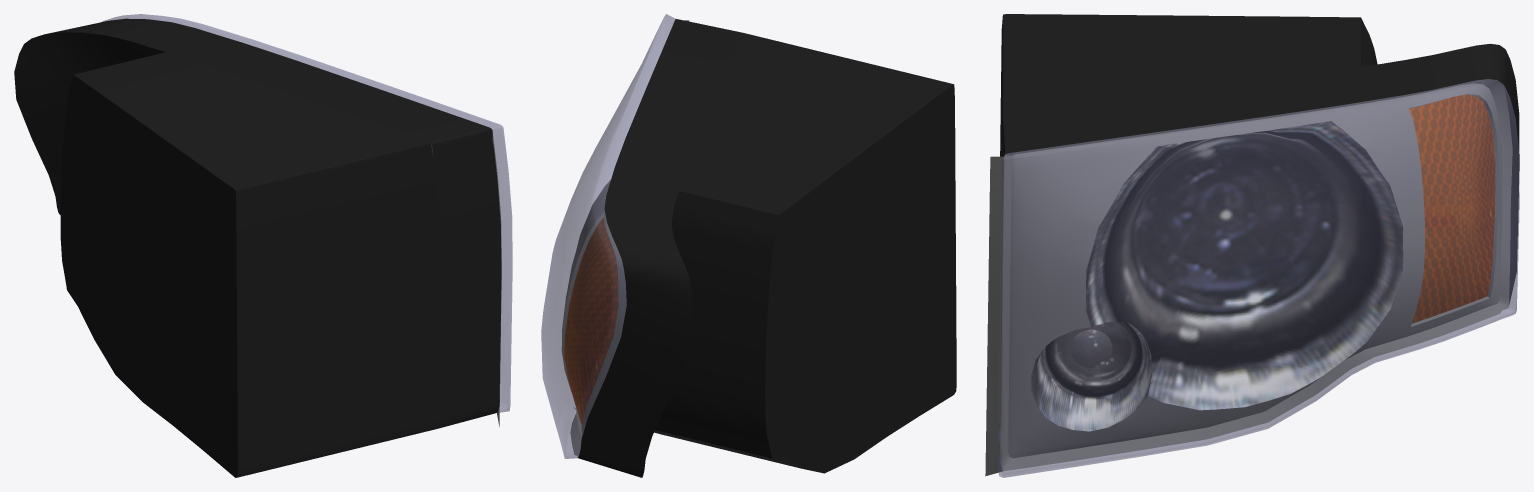
3 views of the same model, side by side, from view 1: azimuth 30°, elevation 25°; view 2: azimuth 150°, elevation 25°; view 3: azimuth 270°, elevation 25° (orthographic). The views are drawn at different scales.
Parts seen in each view (by area): view 1: P712_061B_L_P712_061B_L_5_D, P712_061B_L_P712_061B_L_6_DTaSI; view 2: P712_061B_L_P712_061B_L_5_D, P712_061B_L_P712_061B_L_6_DTaSI, P712_061B_L_1_N_P712_061B_L, P712_061B_L_P712_061B_L_2_DaS; view 3: P712_061B_L_P712_061B_L_6_DTaSI, P712_061B_L_P712_061B_L_3_N, P712_061B_L_P712_061B_L_2_DaS, P712_061B_L_P712_061B_L_5_D, P712_061B_L_1_N_P712_061B_L, P712_061B_L_P712_061B_L_4_N.
Boxes of the visible parts, x1,y1,x2,y2 form: P712_061B_L_P712_061B_L_5_D: (14, 18, 501, 477); P712_061B_L_P712_061B_L_6_DTaSI: (101, 14, 512, 412); P712_061B_L_P712_061B_L_5_D: (578, 19, 956, 477); P712_061B_L_P712_061B_L_6_DTaSI: (541, 14, 675, 458); P712_061B_L_1_N_P712_061B_L: (564, 217, 618, 424); P712_061B_L_P712_061B_L_2_DaS: (561, 20, 689, 457); P712_061B_L_P712_061B_L_6_DTaSI: (998, 79, 1519, 477); P712_061B_L_P712_061B_L_3_N: (1086, 121, 1403, 410); P712_061B_L_P712_061B_L_2_DaS: (985, 79, 1512, 476); P712_061B_L_P712_061B_L_5_D: (1000, 14, 1519, 303); P712_061B_L_1_N_P712_061B_L: (1409, 94, 1495, 323); P712_061B_L_P712_061B_L_4_N: (1031, 322, 1151, 431).
Size of the model in its own units: 24.98 by 25.08 by 37.41.
